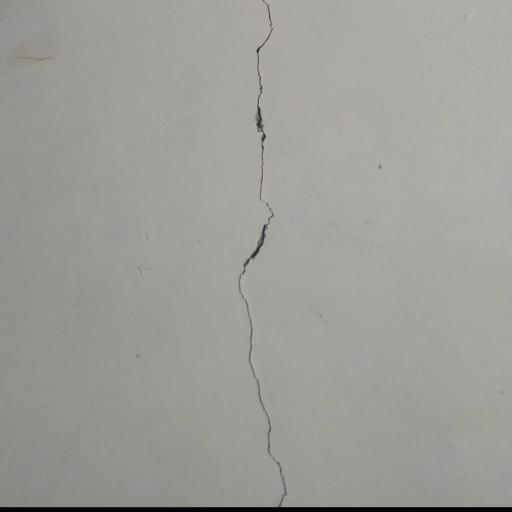minor_crack: (228, 0, 306, 504)
